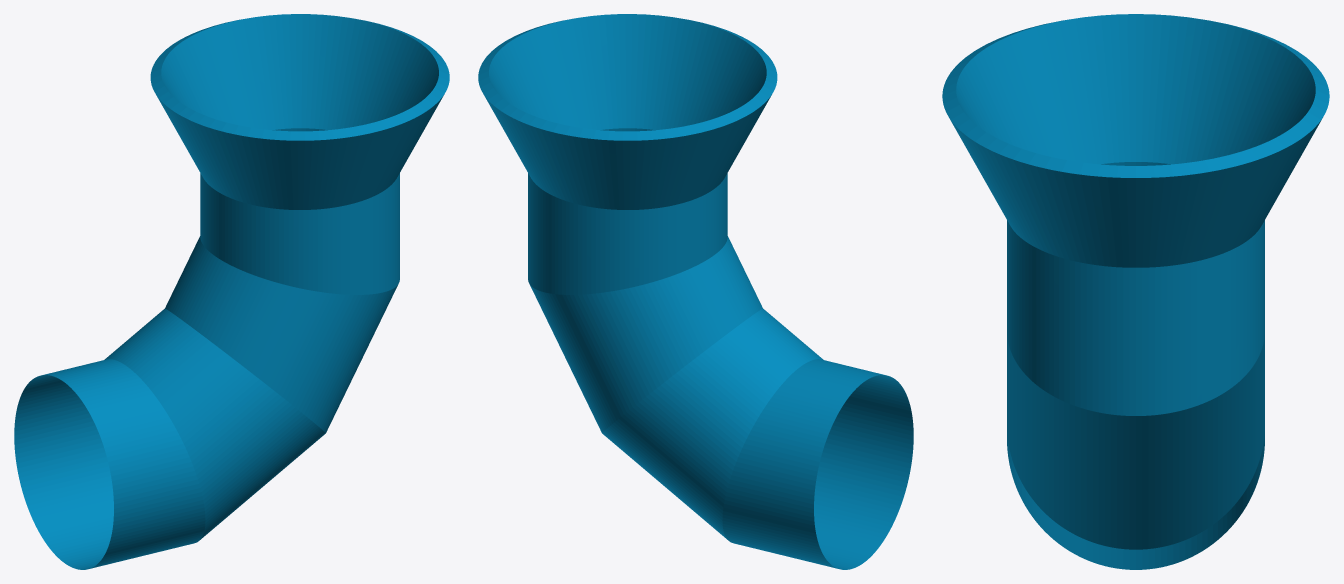
Rendered from blue-pipe-double.glb.
3 views of the same model, side by side, from view 1: azimuth 30°, elevation 25°; view 2: azimuth 150°, elevation 25°; view 3: azimuth 270°, elevation 25° (orthographic). The views are drawn at different scales.
Parts seen in each view (by area): view 1: Elbow_Joint; view 2: Elbow_Joint; view 3: Elbow_Joint.
Boxes of the visible parts, bbox=[...] form: Elbow_Joint: bbox=[14, 14, 449, 569]; Elbow_Joint: bbox=[478, 14, 913, 569]; Elbow_Joint: bbox=[942, 14, 1329, 569].
Bounding box in the file's own units: 4.23 × 4.79 × 3.
